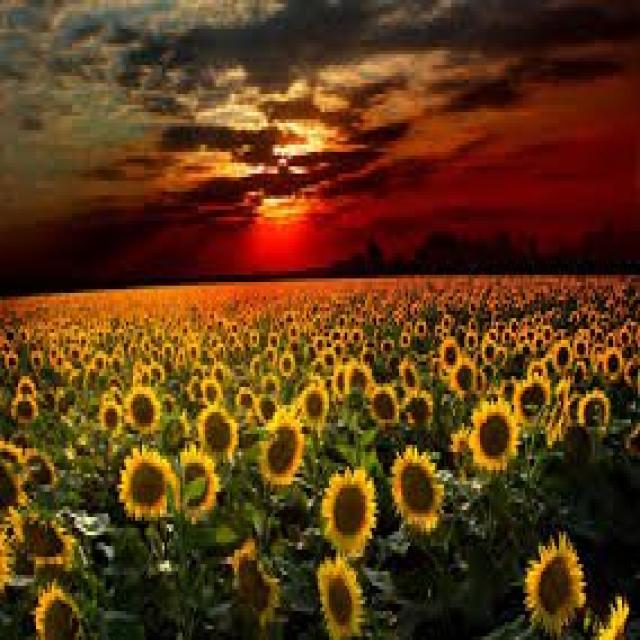sunflower: (523, 528, 586, 632), (322, 466, 376, 557), (390, 444, 444, 532), (117, 444, 176, 520), (466, 394, 518, 470), (315, 554, 363, 636), (233, 538, 278, 623), (257, 408, 304, 484), (176, 441, 218, 521), (196, 401, 239, 463), (26, 517, 78, 568), (34, 578, 79, 636), (122, 383, 160, 434), (515, 373, 549, 424), (295, 380, 327, 430), (595, 593, 629, 640), (23, 446, 56, 490), (448, 354, 478, 398), (401, 387, 433, 427), (370, 384, 399, 426), (97, 387, 122, 434), (578, 391, 611, 426), (346, 359, 374, 391), (0, 531, 12, 590), (552, 339, 571, 374), (13, 394, 35, 424), (201, 376, 222, 406), (450, 426, 472, 452), (605, 345, 621, 380), (402, 359, 419, 391), (442, 338, 459, 368), (258, 397, 279, 419), (333, 366, 348, 396), (238, 386, 254, 413), (482, 338, 498, 365), (279, 352, 294, 377), (18, 375, 33, 395)
